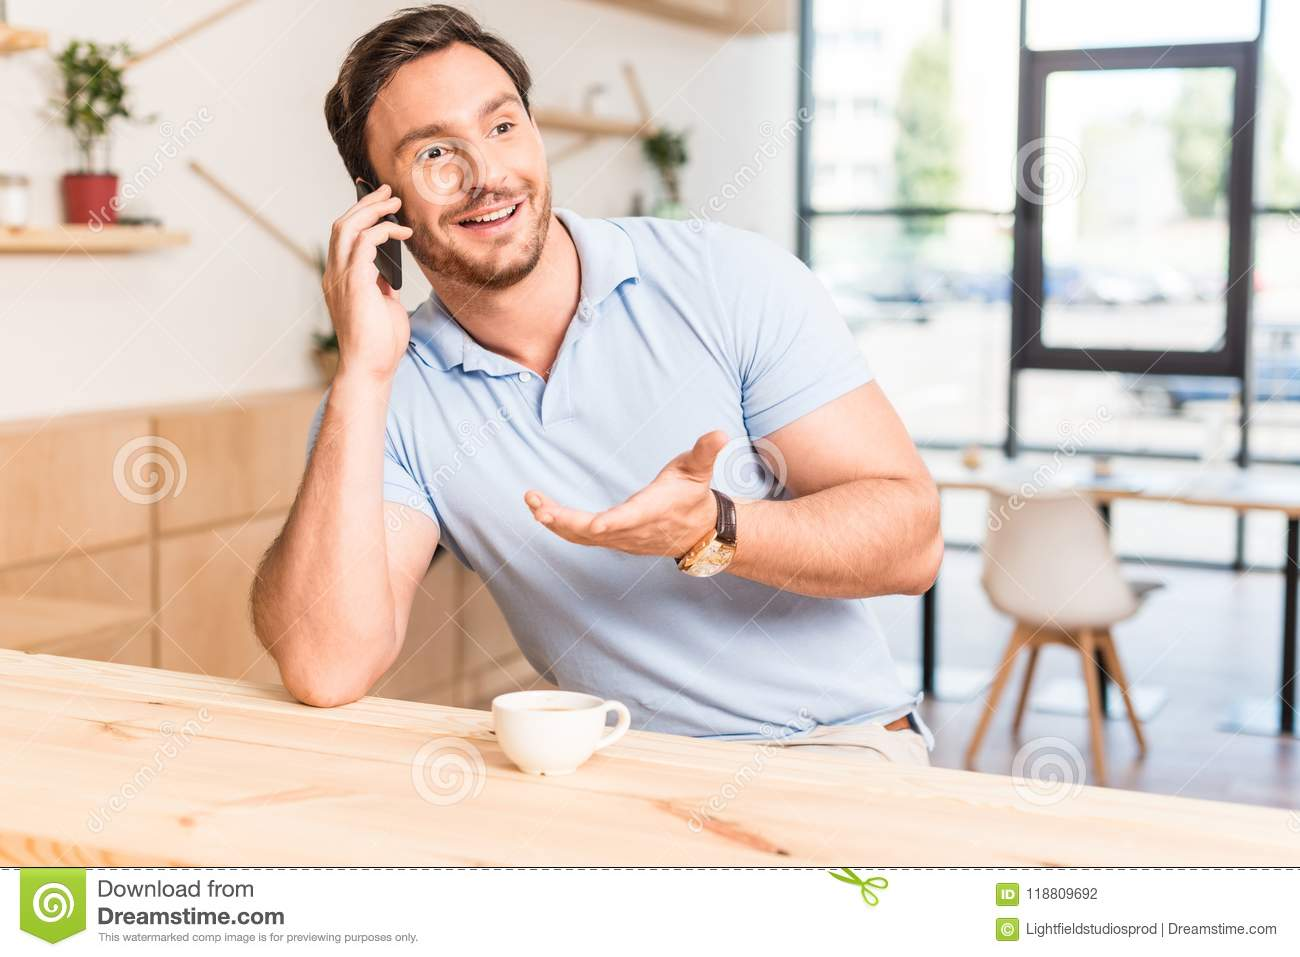phone: (348, 178, 412, 296)
talk: (321, 88, 553, 397)
